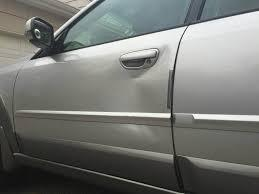doorouter-dent: (100, 37, 197, 182)
